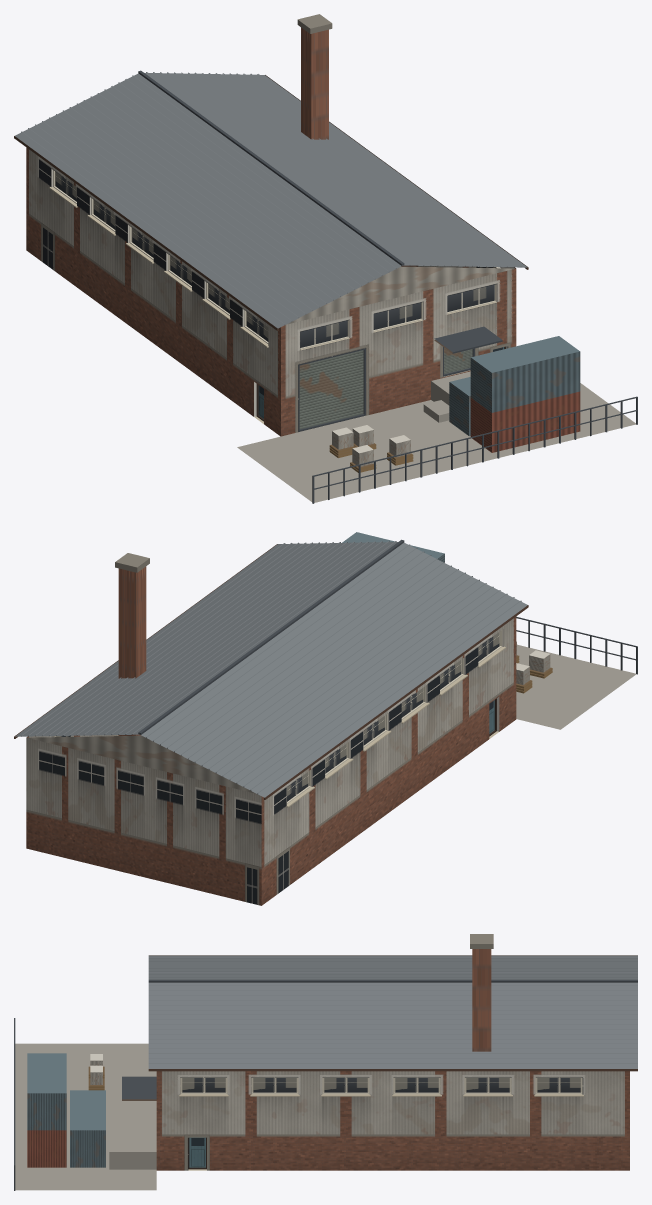
File: hero_industrial_c.glb
3 renders of one model, top to bottom at view 1: azimuth 30°, elevation 25°; view 2: azimuth 150°, elevation 25°; view 3: azimuth 270°, elevation 25°, orthographic. The views are drawn at different scales.
Parts seen in each view (by area): view 1: bld_hero_industrial_c; view 2: bld_hero_industrial_c; view 3: bld_hero_industrial_c.
Part boxes in pixels (<box>): bld_hero_industrial_c: <box>14,14,637,503</box>; bld_hero_industrial_c: <box>14,532,637,905</box>; bld_hero_industrial_c: <box>14,934,637,1190</box>.
Bounding box in the file's own units: 22.08 × 15.35 × 39.54.
1 material, 1 textured.
